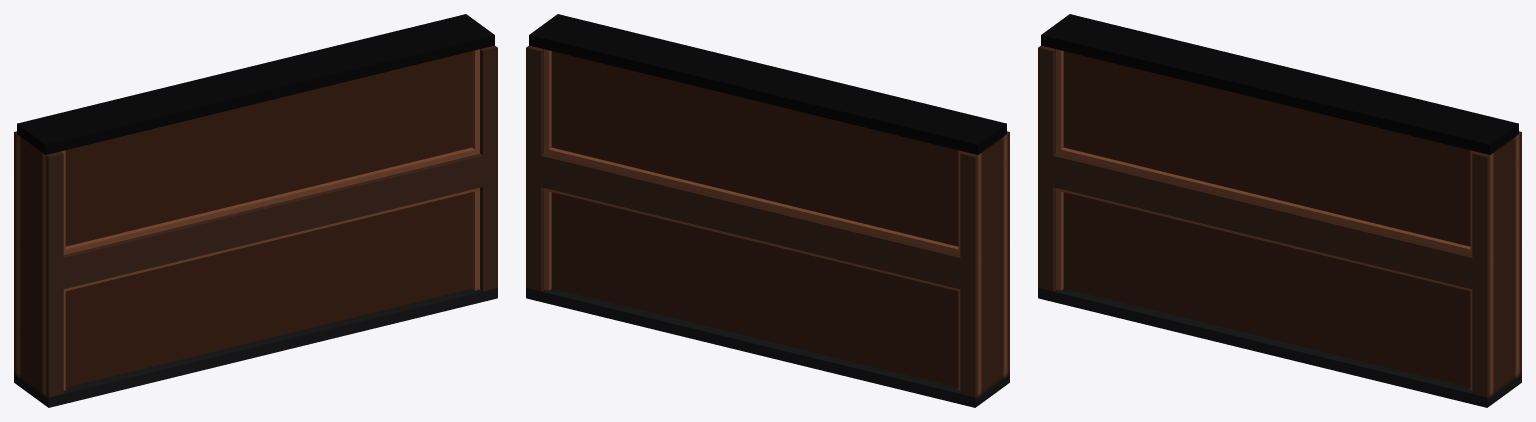
Rendered from Wall-Wood-Model-12.fbx.
3 renders of one model, left to right at view 1: azimuth 30°, elevation 25°; view 2: azimuth 150°, elevation 25°; view 3: azimuth 330°, elevation 25°, orthographic.
Visible parts, largest first — view 1: Wall-Wood-Model-12; view 2: Wall-Wood-Model-12; view 3: Wall-Wood-Model-12.
Boxes of the visible parts, <box> form: Wall-Wood-Model-12: <box>14,14,497,407</box>; Wall-Wood-Model-12: <box>526,14,1009,407</box>; Wall-Wood-Model-12: <box>1038,14,1521,407</box>.
Size of the model in its own units: 90 by 50 by 12.
1 material, 1 textured.
